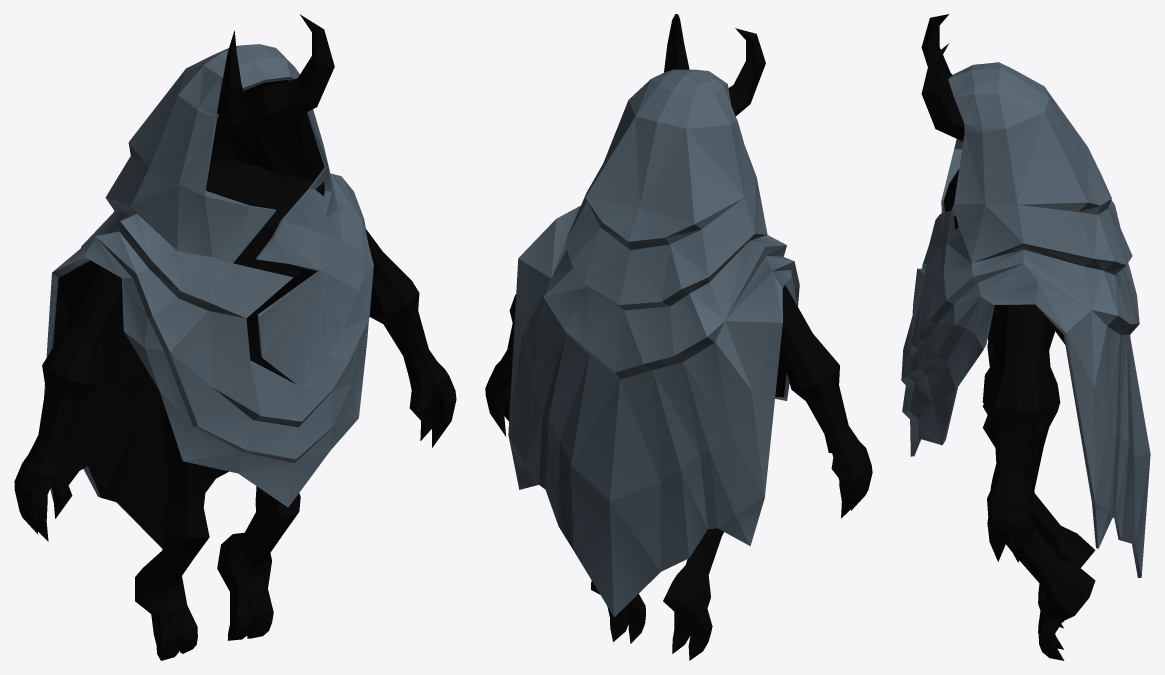
File: GhostBody4.dae
3 views of the same model, side by side, from view 1: azimuth 30°, elevation 25°; view 2: azimuth 150°, elevation 25°; view 3: azimuth 270°, elevation 25° (orthographic). The views are drawn at different scales.
Visible parts, largest first — view 1: Empty_Mesh; view 2: Empty_Mesh; view 3: Empty_Mesh.
Part boxes in pixels (box(x1,y1,x2,y2)): Empty_Mesh: box(14, 14, 456, 660); Empty_Mesh: box(485, 14, 872, 660); Empty_Mesh: box(901, 14, 1150, 660).
Size of the model in its own units: 6.91 by 3.78 by 10.27.
